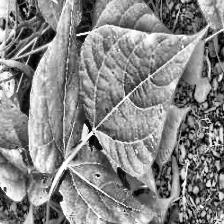ALS: (80, 27, 204, 174), (58, 149, 158, 224), (0, 81, 58, 203)
